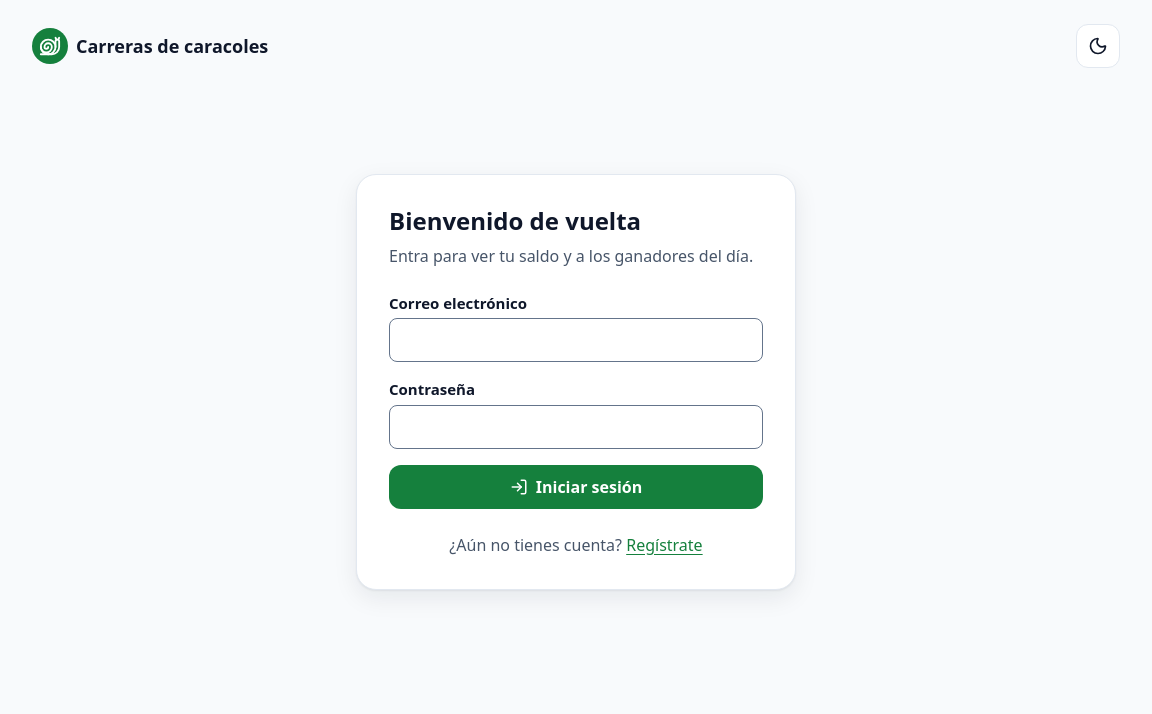
Test: registro, sesión y guards (mínimos de validez) › el dashboard sin sesión redirige al login, y tras entrar vuelve a donde iba
Expected: the heading "Bienvenido de vuelta" is shown, [389,204,641,237]
In the field labelled "Correo electrónico": (576, 340) [389,318,763,362], type "ana@example.com"
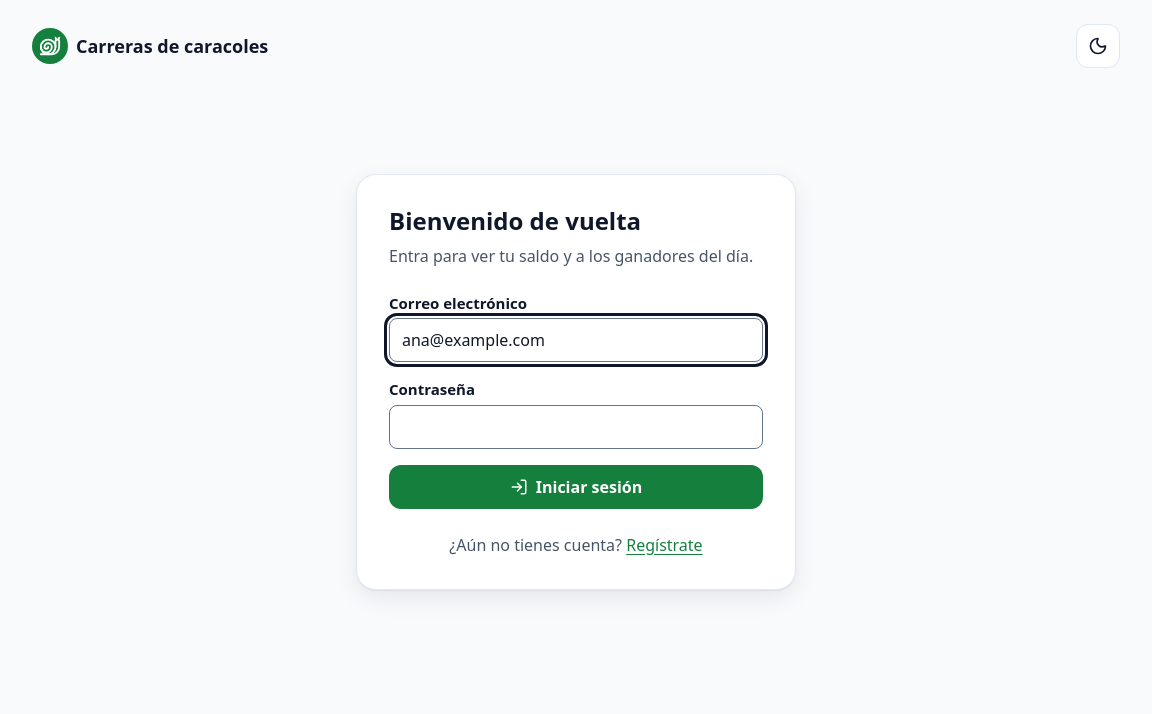
In the password field labelled "Contraseña": (576, 427) [389,405,763,449], type "Caracol123"
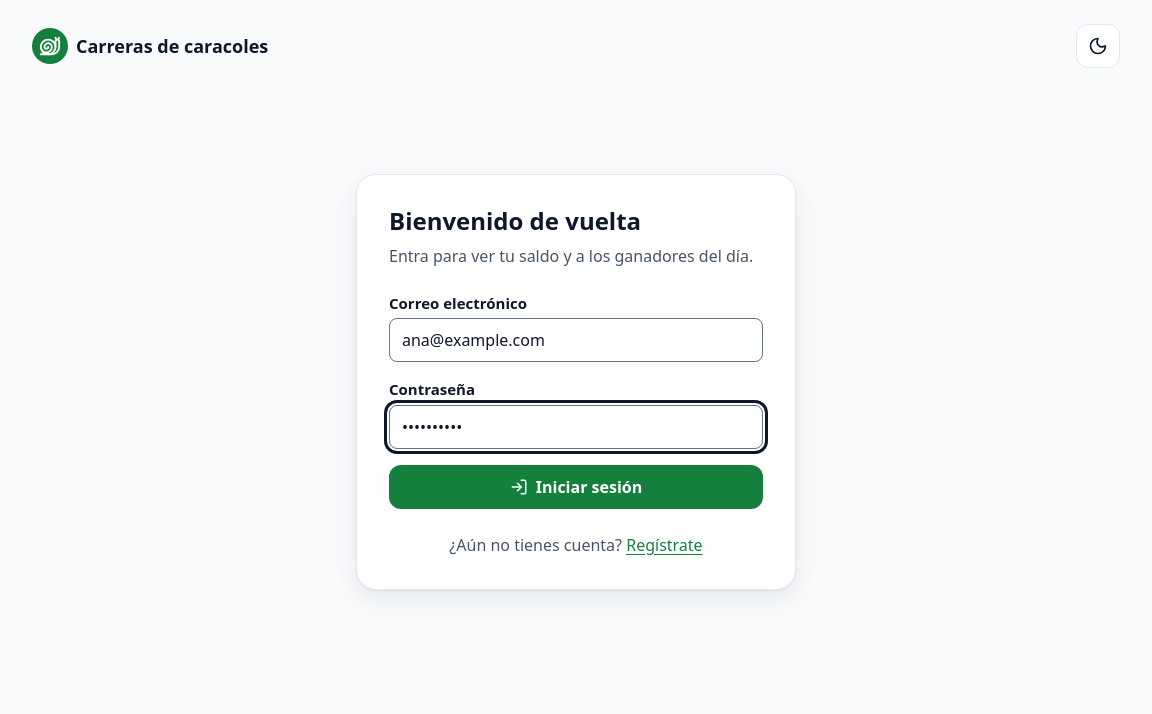
Click the button "Iniciar sesión": (576, 487) [389,465,763,509]
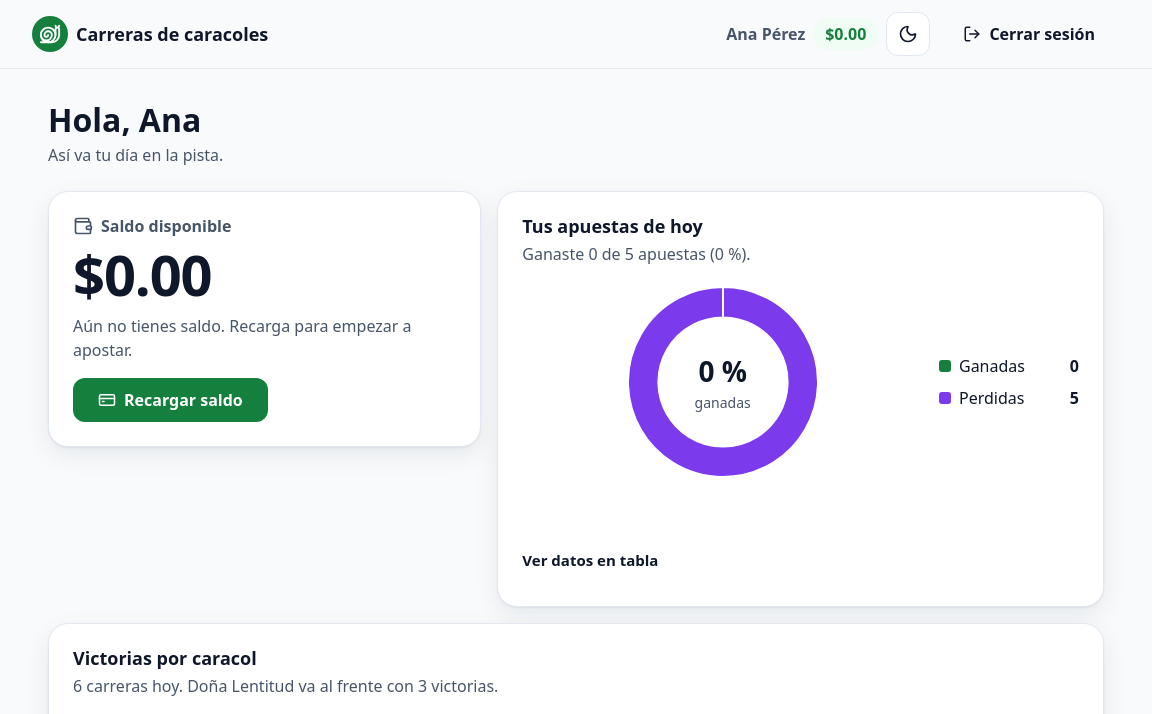
Result: the heading "Hola, Ana" is shown at [48,98,201,141]
